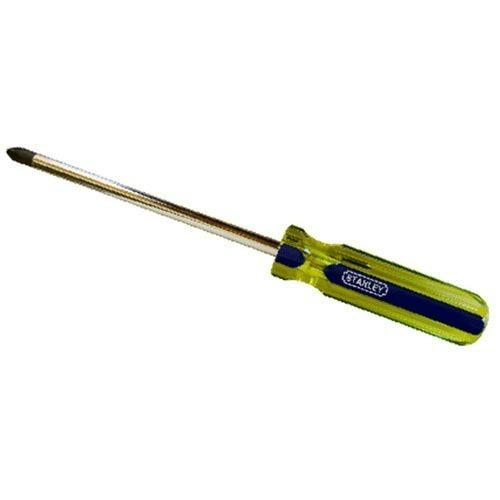Screwdriver: (1, 126, 500, 366)
